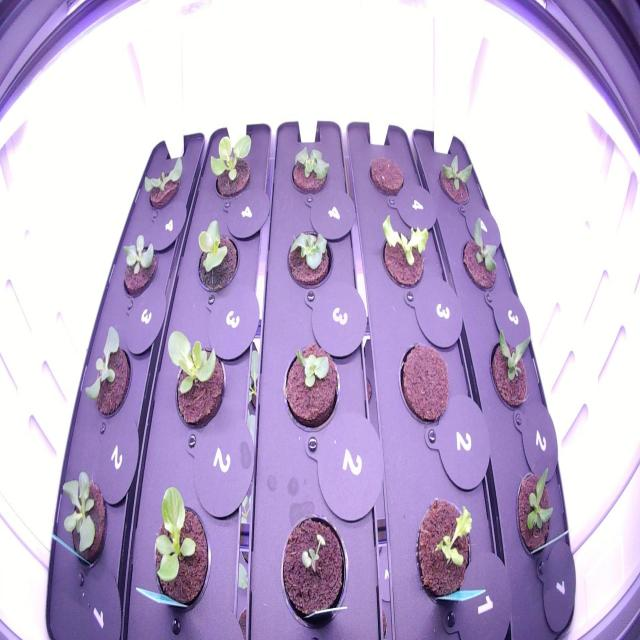germination: (270, 505, 354, 633)
pod: (393, 334, 453, 438), (365, 151, 408, 202)
young: (138, 479, 214, 622), (410, 490, 480, 614), (161, 320, 229, 437), (51, 459, 112, 584), (78, 314, 139, 434), (280, 336, 345, 438), (511, 452, 559, 572), (186, 212, 244, 302), (483, 318, 535, 416), (377, 209, 432, 299), (202, 128, 256, 212), (132, 147, 189, 223), (457, 210, 506, 294), (282, 222, 336, 295), (114, 228, 163, 302), (433, 145, 477, 215), (282, 143, 332, 199)
